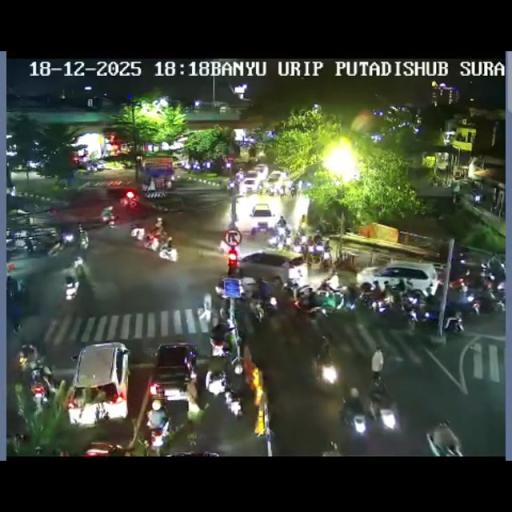Car: (66, 342, 132, 426), (148, 343, 199, 407), (356, 260, 437, 296), (237, 250, 308, 289), (248, 202, 275, 232), (80, 441, 129, 456), (240, 177, 262, 194), (252, 164, 269, 178), (268, 170, 286, 183), (172, 159, 190, 169)
Motorcycle: (364, 383, 398, 431), (28, 364, 54, 410), (312, 342, 338, 385), (62, 256, 86, 298), (339, 400, 368, 434), (317, 282, 350, 310), (468, 288, 501, 316), (428, 428, 462, 455), (400, 292, 422, 326), (222, 384, 244, 417), (146, 420, 170, 450), (205, 369, 228, 396), (267, 224, 291, 248), (18, 344, 38, 371), (6, 433, 28, 455), (198, 292, 212, 326), (209, 335, 229, 358), (248, 298, 267, 322), (158, 240, 178, 262), (282, 278, 300, 302), (443, 313, 463, 334), (240, 276, 258, 299), (371, 346, 383, 380), (452, 284, 470, 305), (143, 231, 160, 252), (303, 303, 328, 317), (318, 243, 333, 266), (119, 192, 138, 210), (320, 440, 342, 455), (48, 238, 66, 256), (218, 299, 232, 322), (94, 402, 110, 422), (480, 262, 495, 283), (326, 271, 340, 290), (6, 276, 18, 298), (214, 278, 227, 298), (101, 210, 117, 226), (470, 186, 484, 204), (230, 357, 244, 375), (292, 233, 306, 250), (217, 236, 230, 254), (60, 230, 75, 244), (297, 179, 312, 193), (78, 232, 89, 250), (393, 278, 406, 293), (305, 247, 314, 268), (25, 236, 35, 254), (84, 161, 98, 173), (426, 282, 436, 298), (227, 180, 237, 194), (130, 224, 140, 238), (154, 217, 164, 231), (318, 218, 326, 234), (266, 184, 275, 197), (313, 233, 322, 246), (278, 184, 286, 198), (290, 184, 298, 198), (277, 216, 286, 228), (166, 178, 172, 190), (170, 173, 176, 182)
